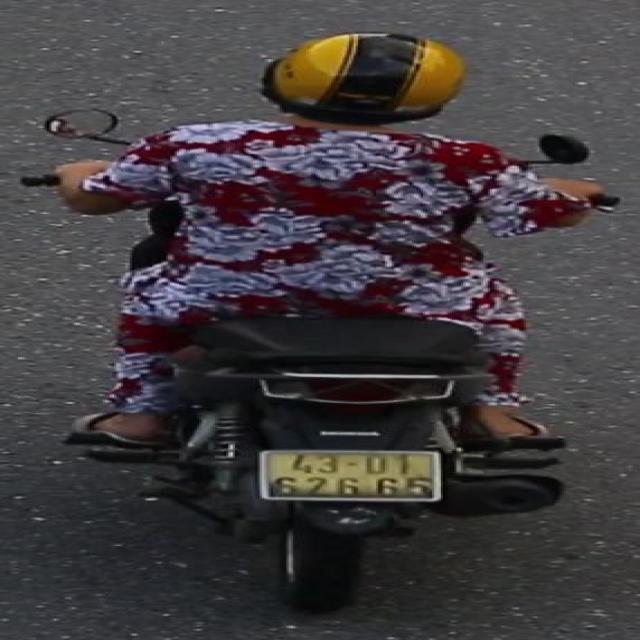LP: (250, 446, 450, 506)
helmet: (253, 26, 474, 146)
